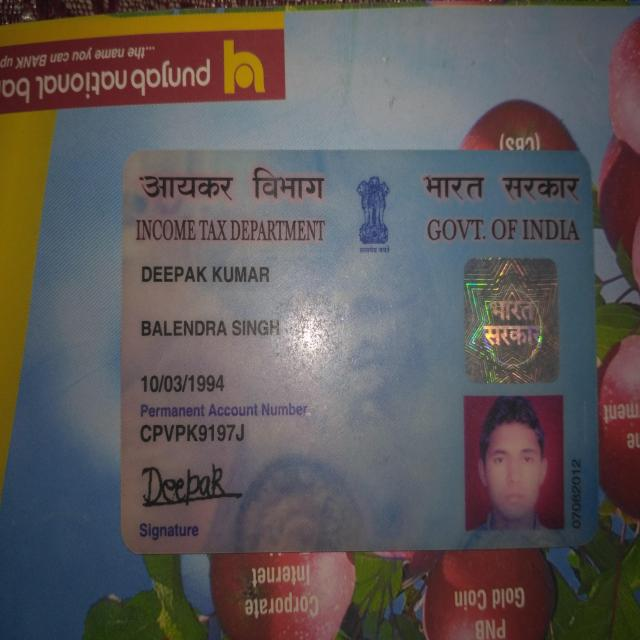pan_card: (121, 152, 592, 549)
